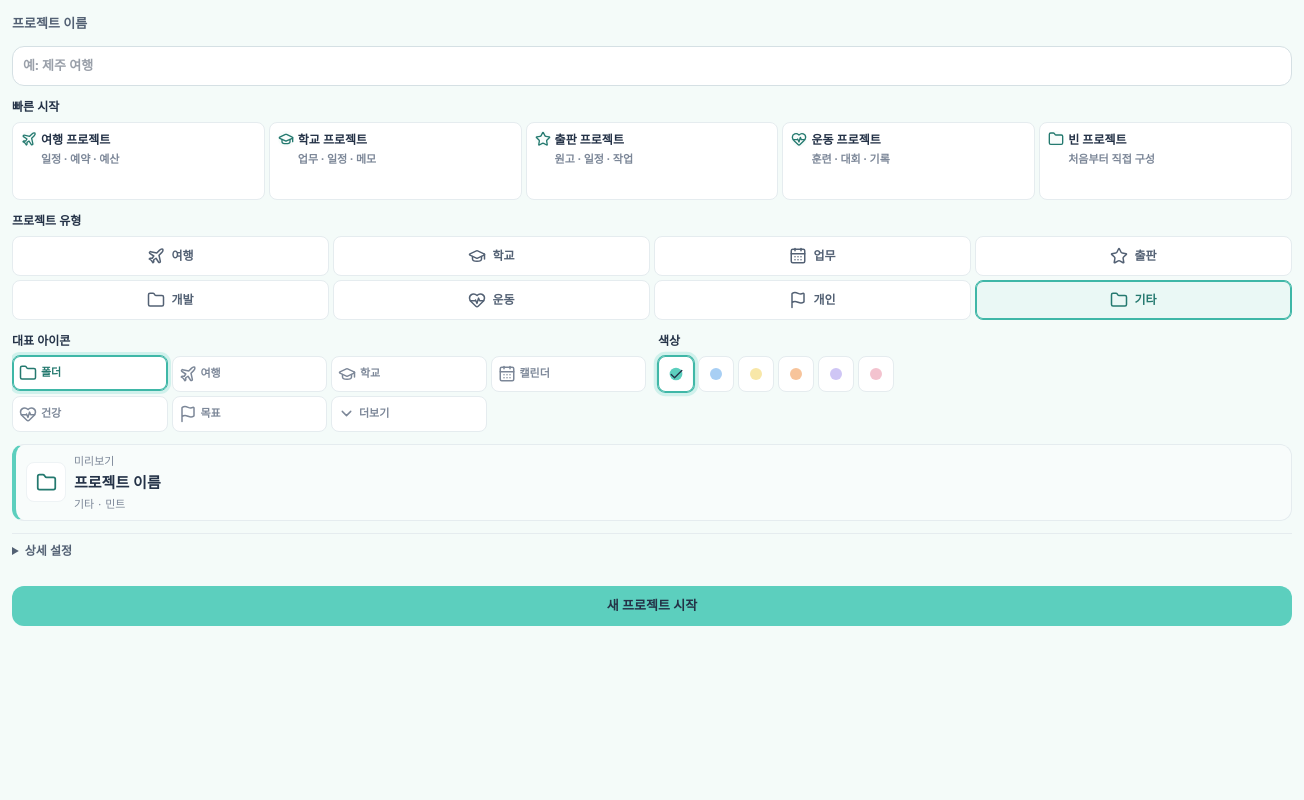
ProjectForm › applies a quick-start card without replacing the typed name
In the field labelled "프로젝트 이름": (652,66) [12,46,1292,86], type "제주 여행"
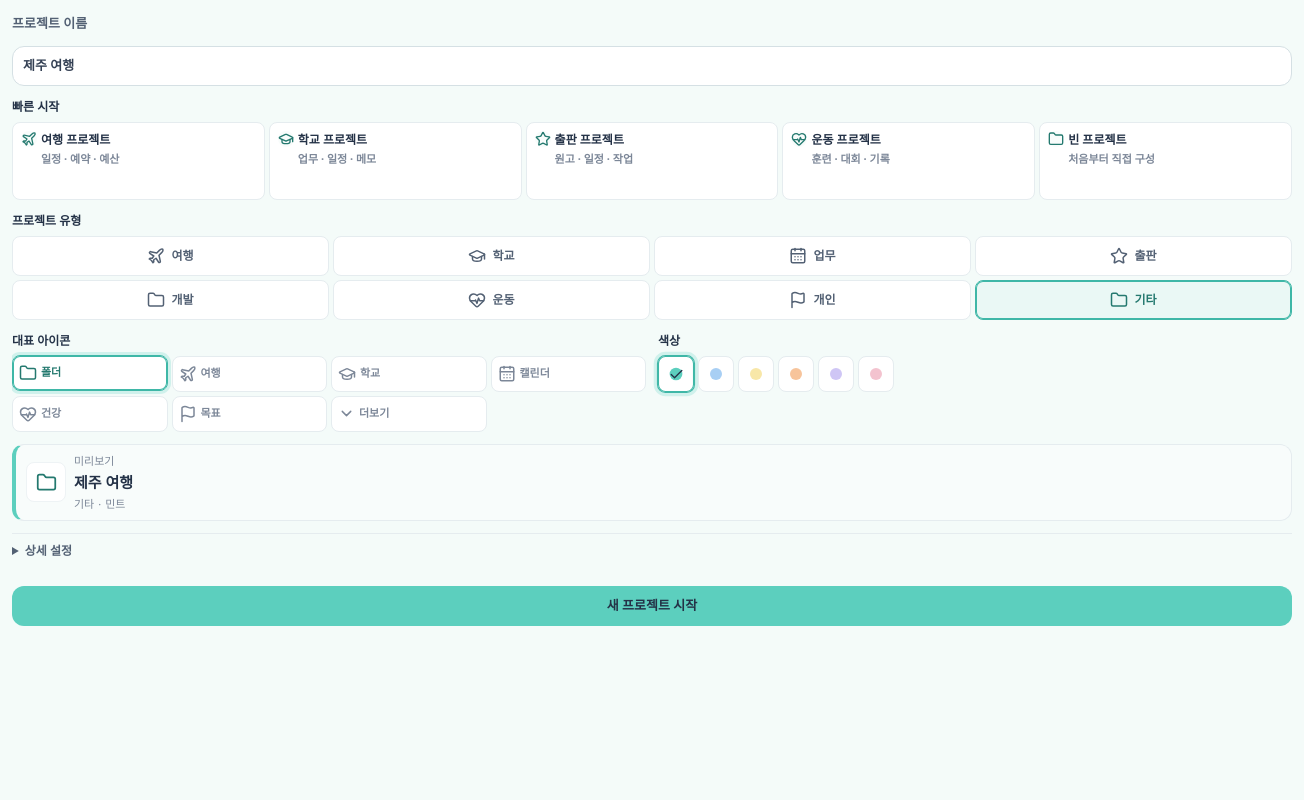
Click the button "여행 프로젝트 일정 · 예약 · 예산": (138,160) [12,122,265,200]
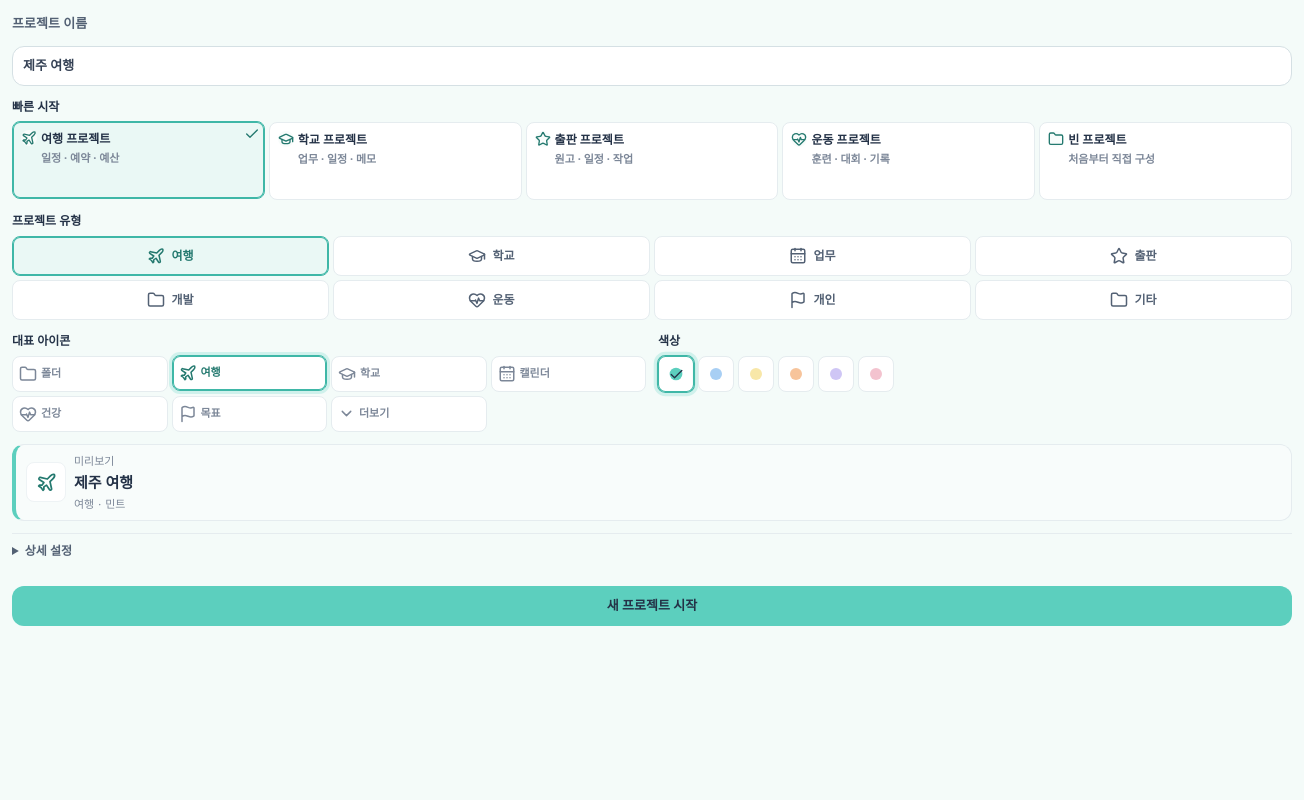
Expected: the element named "icon" holds "travel", [12,332,646,432]
Now the button "여행 프로젝트 일정 · 예약 · 예산" is pressed, box [12,120,265,198]
Now the button "여행" below "프로젝트 유형" is pressed, box [12,236,329,276]
Click the button with aria-label "대표 아이콘 더보기": (409,414) [331,396,486,432]
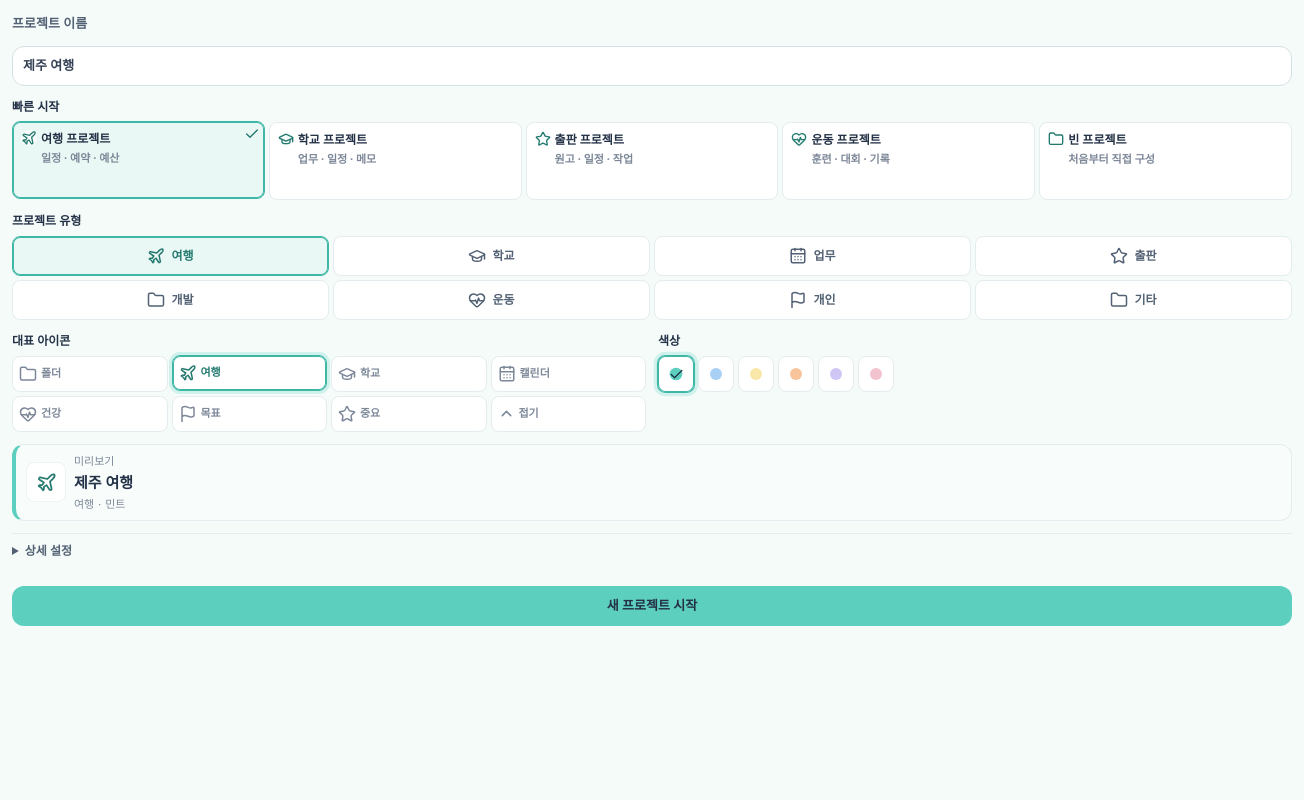
Click the button with aria-label "중요 아이콘": (409,414) [331,396,486,432]
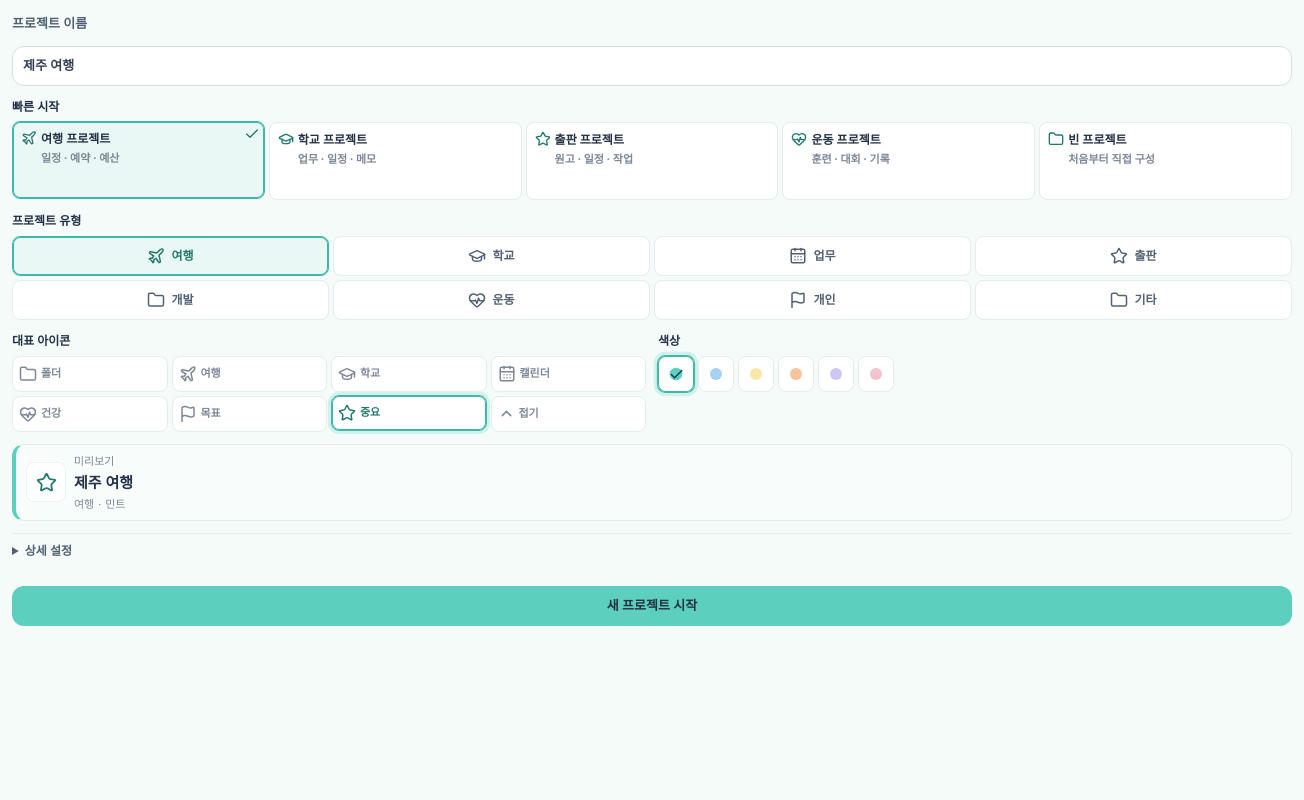
Click the button named "코랄 색상": (796,374) [778,356,814,392]
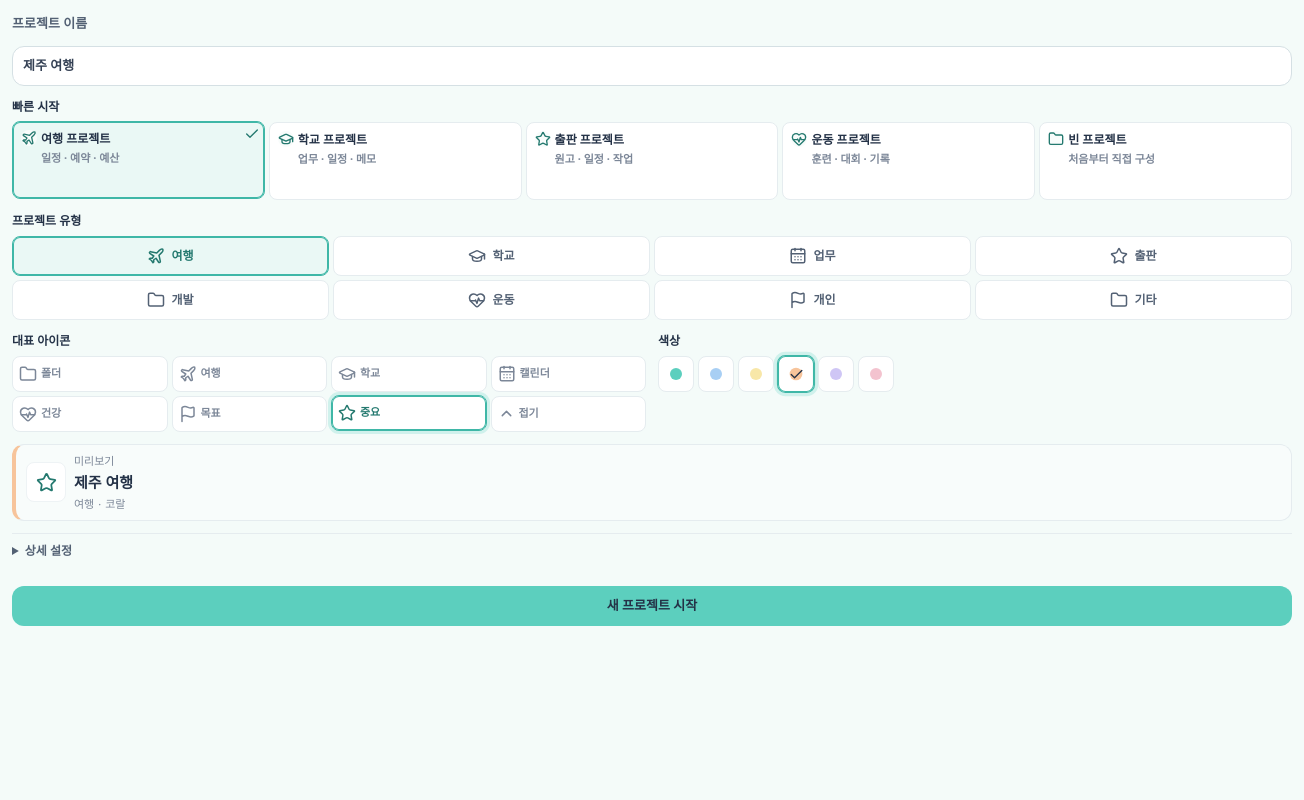
Now the element named "프로젝트 미리보기" shows "제주 여행", box [74,472,133,492]
Now the element named "프로젝트 미리보기" shows "여행", box [74,496,94,510]
Now the element named "프로젝트 미리보기" shows "코랄", box [105,496,126,510]
